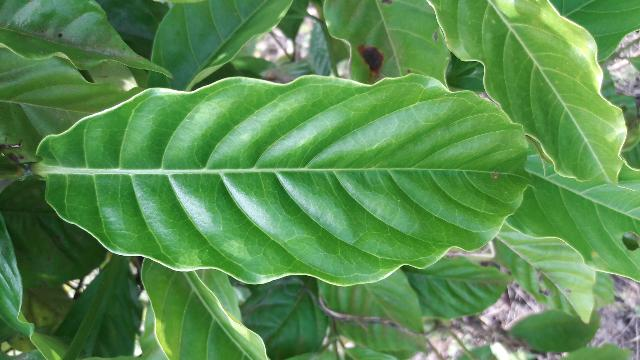healthy: (39, 73, 534, 285)
